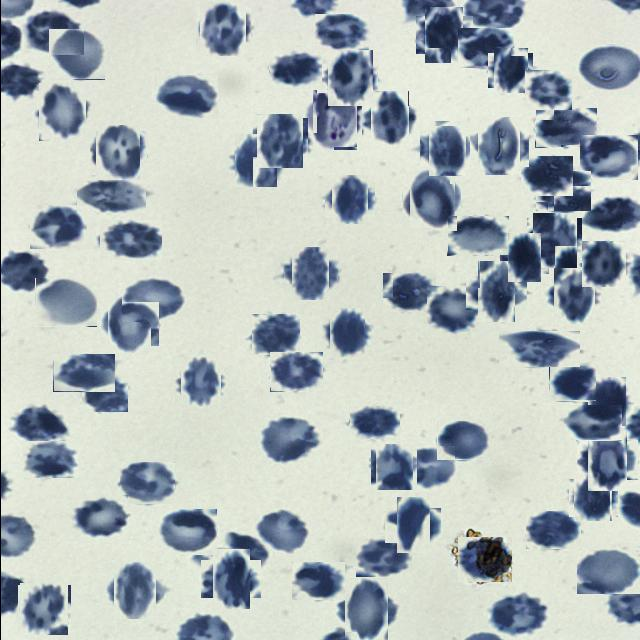red blood cell: (34, 278, 96, 327), (338, 583, 392, 637), (498, 331, 579, 367), (121, 276, 184, 322), (34, 85, 88, 138), (48, 29, 104, 80), (577, 45, 640, 90), (576, 550, 640, 594), (258, 416, 316, 464), (154, 75, 217, 119), (156, 509, 216, 555), (405, 173, 457, 225), (102, 298, 154, 350), (578, 135, 637, 180), (23, 11, 83, 55), (324, 52, 374, 104), (254, 116, 305, 166), (456, 537, 511, 583), (254, 509, 310, 554), (29, 205, 86, 249), (198, 4, 248, 54), (548, 270, 598, 320), (92, 128, 142, 178), (109, 566, 159, 616), (18, 584, 68, 634), (582, 435, 632, 485), (528, 216, 578, 266), (474, 121, 524, 171), (488, 593, 546, 636), (99, 220, 161, 260), (446, 216, 508, 256), (534, 108, 596, 148), (71, 494, 127, 538), (471, 266, 520, 316), (426, 286, 479, 332), (118, 462, 174, 505), (206, 554, 254, 604), (52, 354, 114, 392), (231, 137, 279, 185), (534, 171, 590, 212), (76, 180, 145, 213), (10, 404, 66, 444), (355, 536, 411, 576), (398, 446, 454, 486), (457, 28, 513, 68), (423, 125, 470, 172), (420, 12, 468, 58), (20, 441, 78, 479), (382, 272, 436, 312), (269, 352, 322, 392), (287, 250, 333, 296), (366, 96, 412, 142), (177, 361, 224, 406), (525, 511, 580, 549), (564, 405, 622, 441), (520, 156, 572, 196), (436, 421, 489, 460), (268, 50, 321, 89), (314, 12, 368, 50), (580, 242, 626, 286), (390, 502, 434, 548), (291, 562, 344, 600), (584, 379, 628, 424), (251, 314, 299, 355), (570, 476, 614, 519), (524, 70, 571, 110), (328, 178, 370, 222), (326, 311, 368, 354), (372, 446, 414, 488), (502, 236, 544, 278), (348, 406, 399, 440), (81, 375, 127, 412), (548, 366, 595, 402), (490, 50, 530, 90)
ring: (308, 93, 360, 146)
